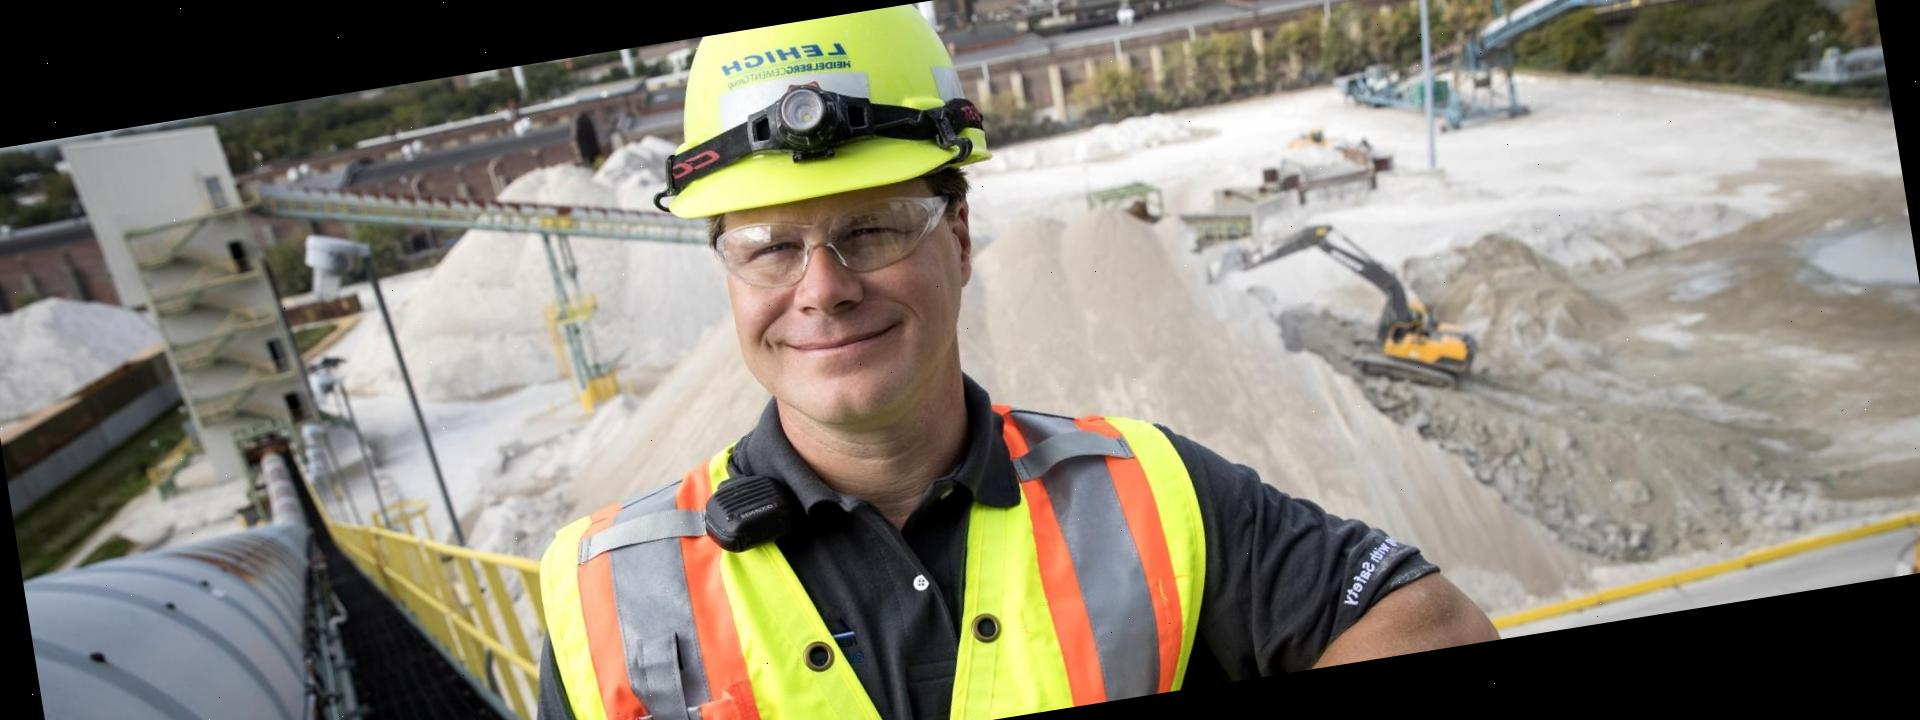helmet: (632, 0, 1000, 225)
wear: (522, 381, 1245, 720)
